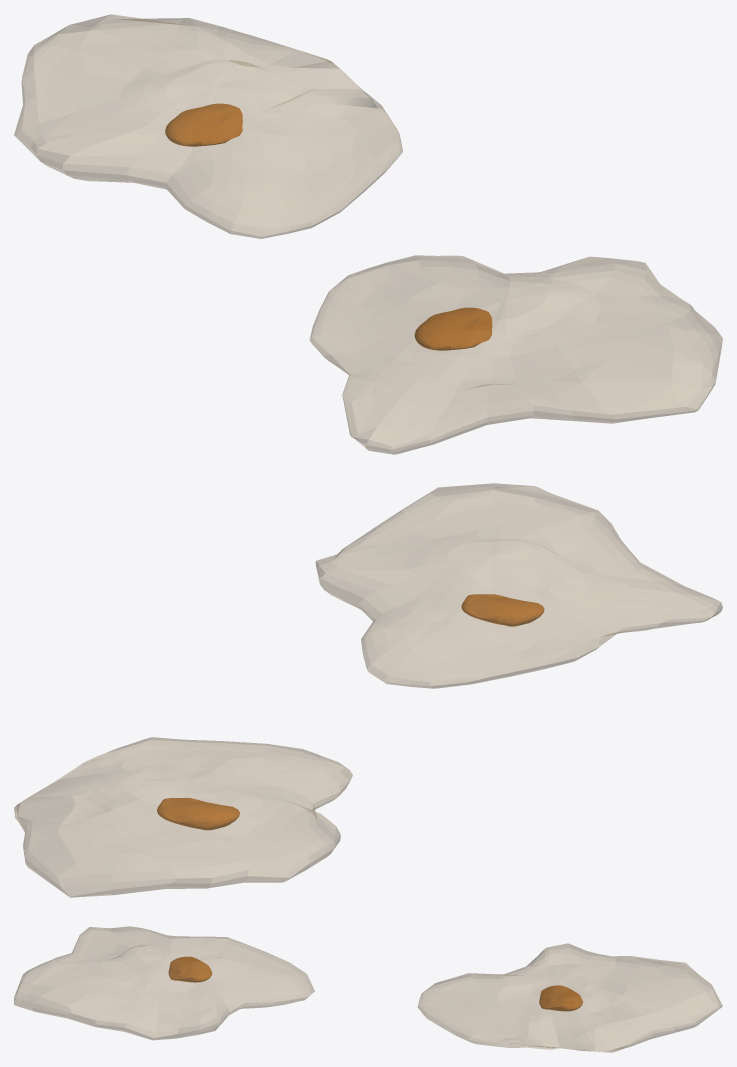
The model's file is simple binary fission in amoeba  4.gltf.
3 renders of one model, top to bottom at view 1: azimuth 30°, elevation 25°; view 2: azimuth 150°, elevation 25°; view 3: azimuth 270°, elevation 25°, orthographic. The views are drawn at different scales.
Parts seen in each view (by area): view 1: Sphere, Sphere.002, Sphere.001, Sphere.003; view 2: Sphere, Sphere.002, Sphere.003, Sphere.001; view 3: Sphere, Sphere.002, Sphere.001, Sphere.003.
Part boxes in pixels (left/top/right/bottom): Sphere: left=309, top=255, right=722, bottom=454; Sphere.002: left=14, top=14, right=402, bottom=238; Sphere.001: left=414, top=307, right=492, bottom=350; Sphere.003: left=165, top=103, right=242, bottom=146; Sphere: left=315, top=483, right=722, bottom=688; Sphere.002: left=14, top=737, right=352, bottom=897; Sphere.003: left=157, top=798, right=239, bottom=830; Sphere.001: left=461, top=594, right=544, bottom=626; Sphere: left=14, top=926, right=314, bottom=1040; Sphere.002: left=417, top=943, right=722, bottom=1052; Sphere.001: left=168, top=956, right=212, bottom=982; Sphere.003: left=539, top=985, right=582, bottom=1011.
Size of the model in its own units: 8.87 by 2.1 by 22.87.
